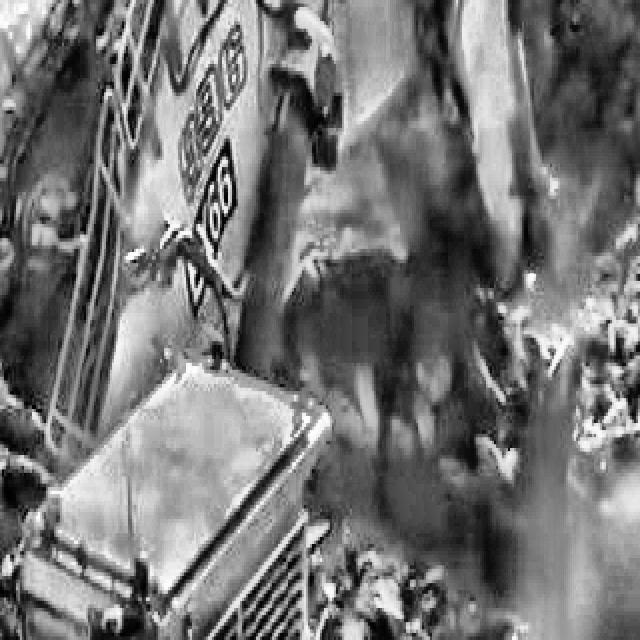excavator: (0, 0, 574, 640)
